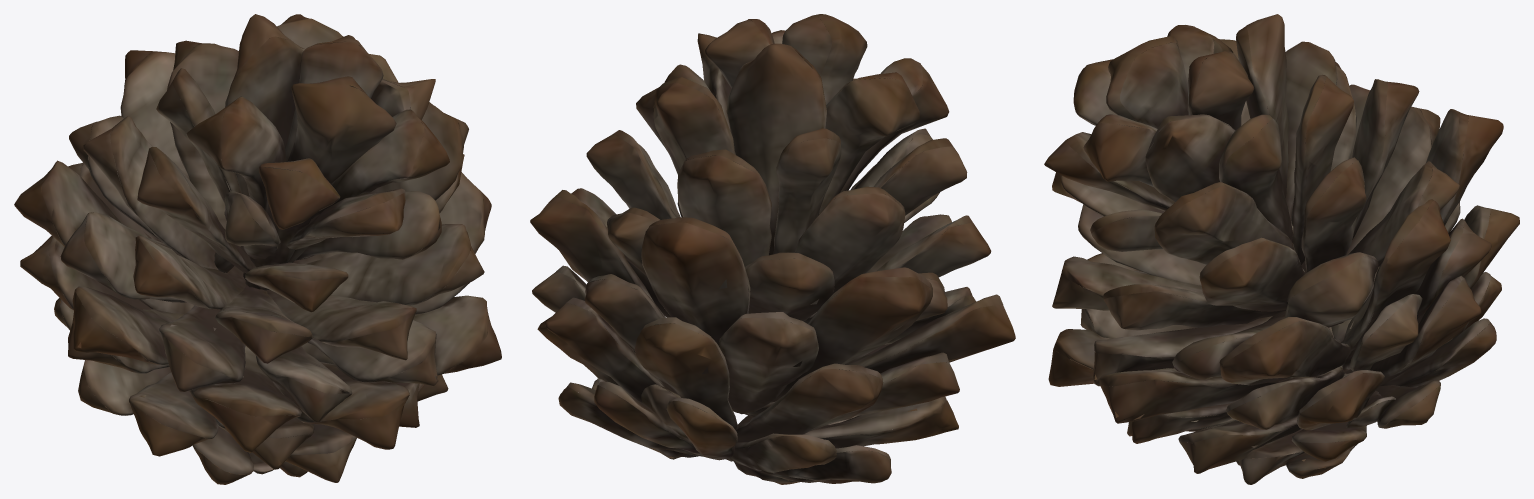
The model's file is pine-cone.glb.
3 views of the same model, side by side, from view 1: azimuth 30°, elevation 25°; view 2: azimuth 150°, elevation 25°; view 3: azimuth 270°, elevation 25° (orthographic).
Parts seen in each view (by area): view 1: Cube.000_cone.001_0; view 2: Cube.000_cone.001_0; view 3: Cube.000_cone.001_0.
Part boxes in pixels (x1,y1,x2,y2): Cube.000_cone.001_0: [14, 14, 501, 484]; Cube.000_cone.001_0: [530, 14, 1015, 484]; Cube.000_cone.001_0: [1044, 14, 1519, 484].
Size of the model in its own units: 0.2859 by 0.272 by 0.2645.
1 material, 1 textured.
